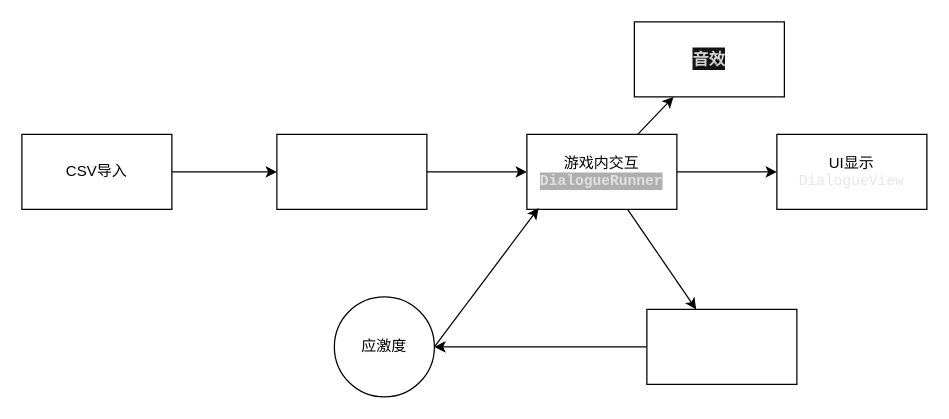
Some shapes in this 949 by 419 pixel diagram are drawn without their labels. The centre of each missing label's shape, as x and y in pixels:
增减 应激度: the point at 721,346
解析CSV，转换为 DialogueGraphData: the point at 351,171
